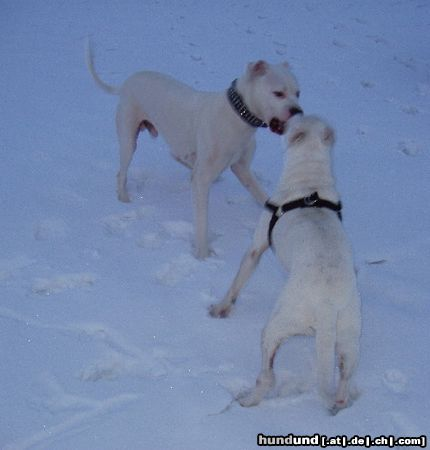dogo_argentino: (83, 36, 301, 261), (206, 112, 361, 416)
